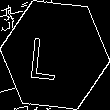L_N: (38, 28, 72, 82)
